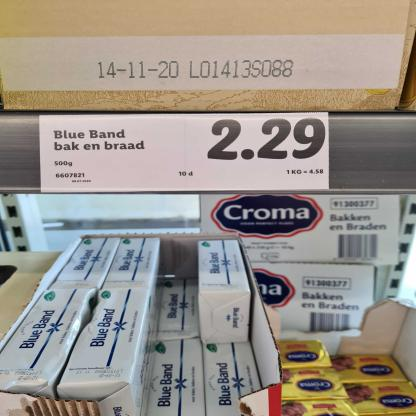prtg: (41, 112, 330, 194)
